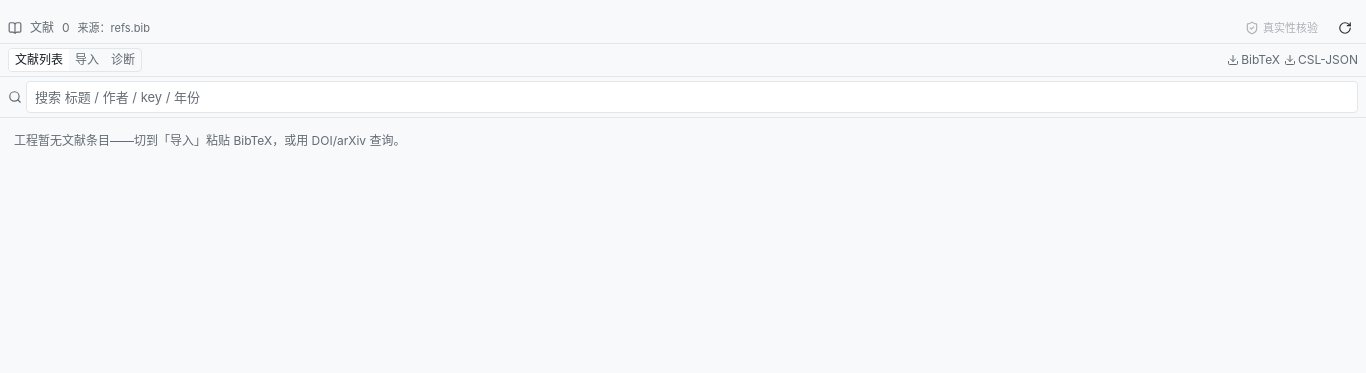
it: LibraryPanel Zotero v2 修补（个人库透传 + 恢复最近来源） › 重开工程：自动恢复最近一次可刷新来源，「刷新此来源」直接可用
Later steps or results of the test are not shown.
Step 1. Click the button "导入" → x=87, y=60, box left=69, top=49, right=105, bottom=71
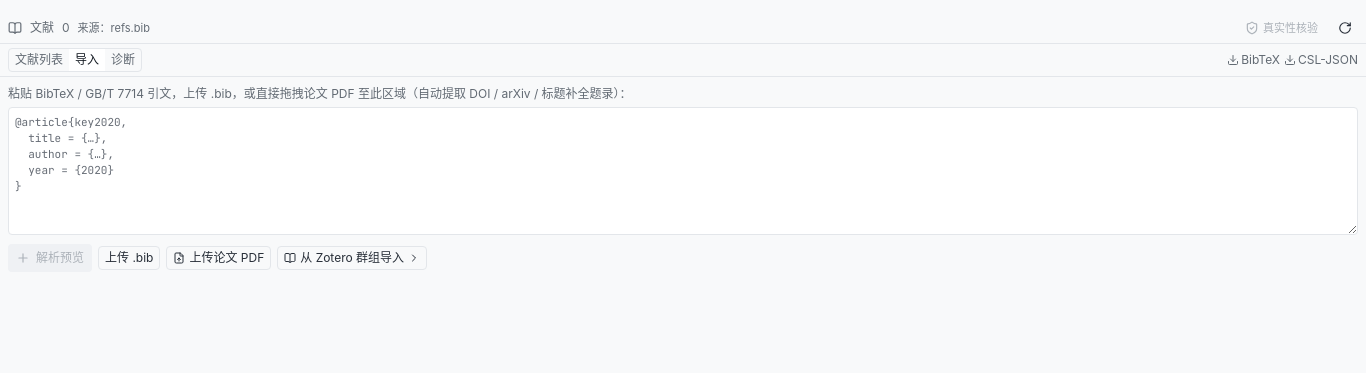
Result: the button with test id "library-zotero-toggle" is shown
Step 2. Click the button with test id "library-zotero-toggle" → x=352, y=258, box left=277, top=246, right=427, bottom=270
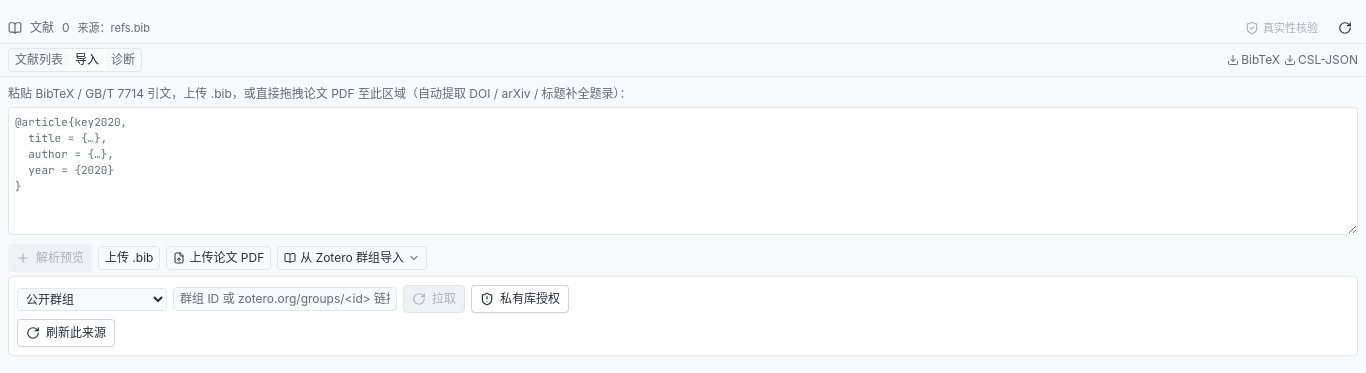
Result: the button with test id "library-zotero-refresh-run" is shown at left=17, top=319, right=115, bottom=347
